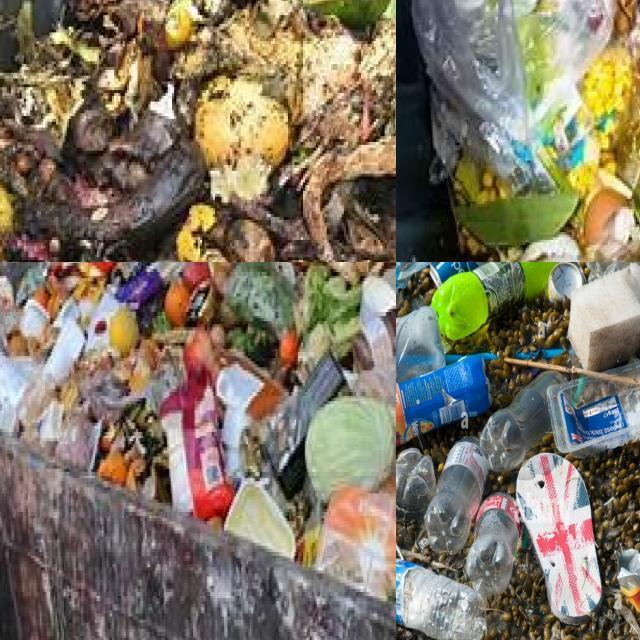Disposable: (547, 378, 640, 452)
Garbage: (0, 262, 396, 608), (396, 262, 640, 640), (414, 0, 640, 262)
Plastic: (516, 452, 602, 624)
Plastic_Bag: (413, 0, 614, 173), (317, 488, 396, 608)
Plastic_Container: (224, 479, 296, 560), (0, 351, 39, 408)
Plastic_Straw: (480, 352, 498, 361), (445, 356, 462, 364)
Plastic_bottle: (432, 262, 559, 340), (396, 355, 491, 446), (480, 371, 562, 472), (424, 437, 489, 554), (396, 558, 486, 640), (465, 493, 520, 597), (396, 306, 445, 383), (396, 447, 437, 519)
Plastic_wraper: (161, 370, 233, 519), (117, 270, 163, 312)
Thermocol: (568, 263, 640, 371)
can: (548, 262, 586, 301), (430, 262, 488, 286)
